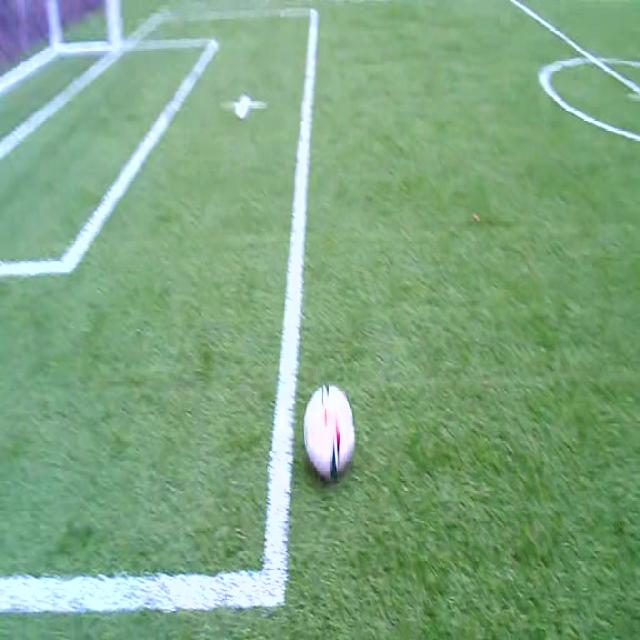ball: (304, 386, 354, 480)
